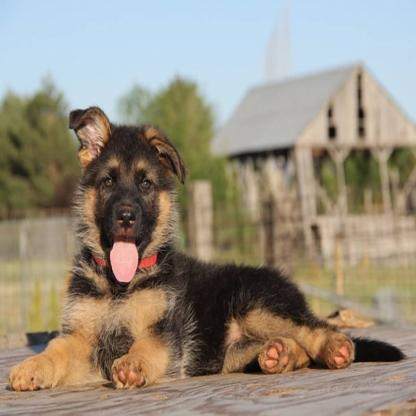dog: (7, 116, 413, 384)
